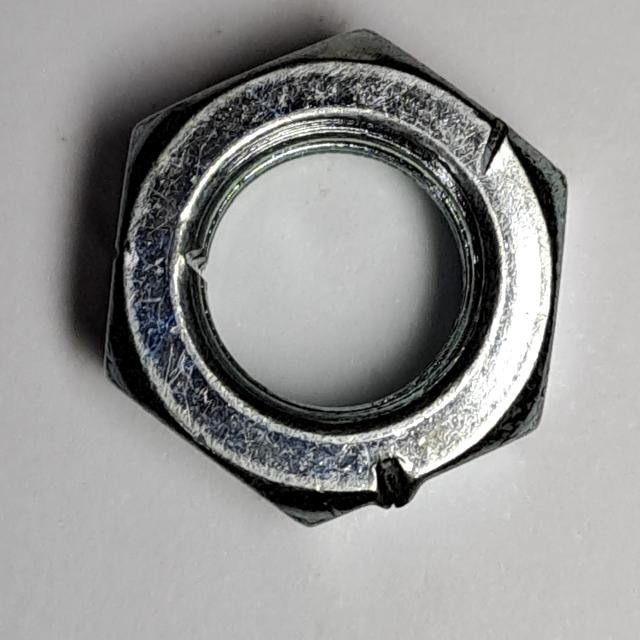Scratches: (94, 15, 583, 544)
